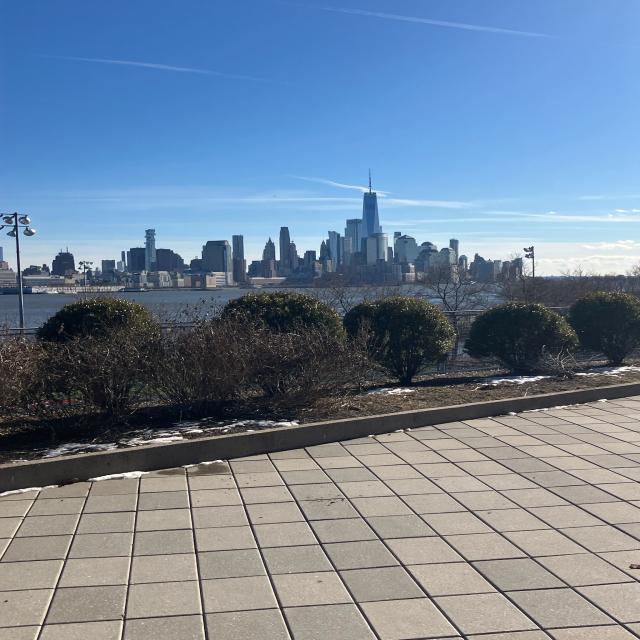WTC: (360, 167, 380, 238)
